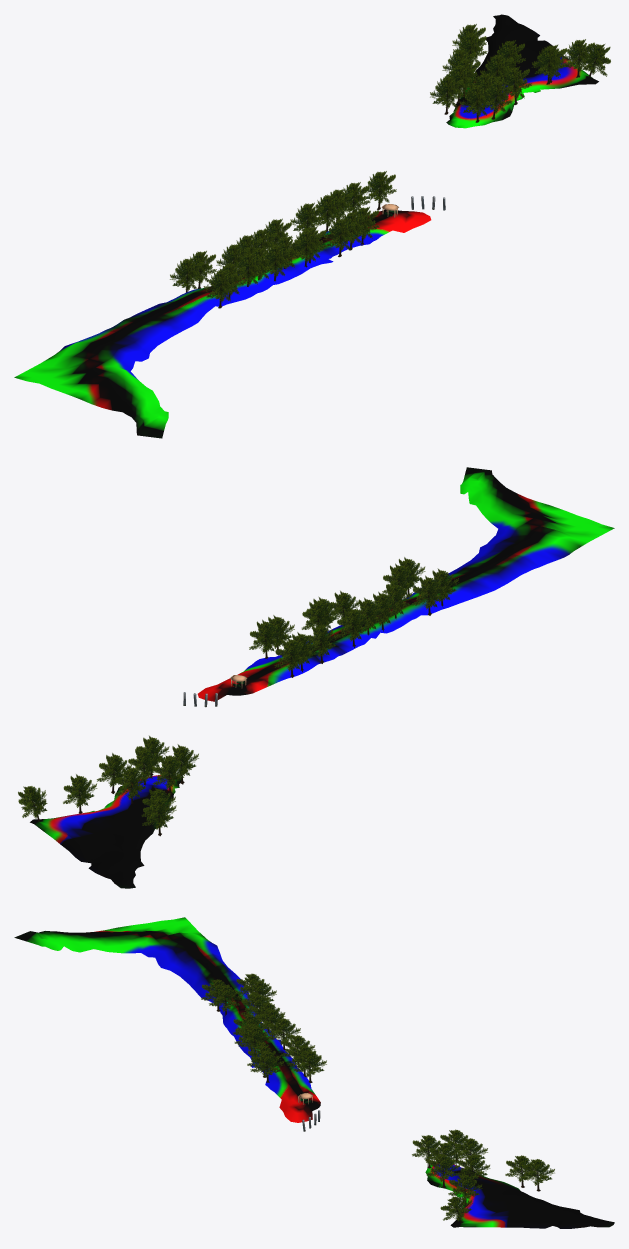
Rendered from peninsula world.glb.
3 renders of one model, top to bottom at view 1: azimuth 30°, elevation 25°; view 2: azimuth 210°, elevation 25°; view 3: azimuth 270°, elevation 25°, orthographic. The views are drawn at different scales.
Parts seen in each view (by area): view 1: Peninsula, Tree01.023, Tree01.020, Tree01.007, Tree01.021, Tree01, Tree01.028, Tree01.025, Tree01.030, Tree01.014, Tree01.022, Tree01.004 (+5 smaller); view 2: Peninsula, Tree01.037, Tree01.018, Tree01.028, Tree01.009, Tree01.027, Tree01.032, Tree01.002, Tree01.029, Tree01.005, Tree01.024, Tree01.004 (+3 smaller); view 3: Peninsula, Tree01.024, Tree01.037, Tree01.005, Tree01.002, Tree01.019, Tree01.028, Tree01.010, Tree01.032, Tree01.009, Tree01.029, Tree01.022 (+2 smaller).
Part boxes in pixels (<box>): Peninsula: <box>14,14,598,438</box>; Tree01.023: <box>430,75,464,114</box>; Tree01.020: <box>203,269,237,308</box>; Tree01.007: <box>323,218,357,257</box>; Tree01.021: <box>170,258,203,292</box>; Tree01: <box>362,171,396,209</box>; Tree01.028: <box>531,46,565,84</box>; Tree01.025: <box>480,80,513,119</box>; Tree01.030: <box>561,39,594,77</box>; Tree01.014: <box>258,244,291,281</box>; Tree01.022: <box>459,84,494,122</box>; Tree01.004: <box>290,202,324,231</box>; Peninsula: <box>30,467,614,888</box>; Tree01.037: <box>142,795,176,836</box>; Tree01.018: <box>412,575,445,615</box>; Tree01.028: <box>63,774,97,813</box>; Tree01.009: <box>336,607,370,647</box>; Tree01.027: <box>152,755,186,795</box>; Tree01.032: <box>115,766,148,803</box>; Tree01.002: <box>274,637,308,677</box>; Tree01.029: <box>18,786,47,821</box>; Tree01.005: <box>249,619,279,659</box>; Tree01.024: <box>96,753,131,793</box>; Tree01.004: <box>306,623,338,663</box>; Peninsula: <box>14,917,614,1228</box>; Tree01.024: <box>426,1154,460,1187</box>; Tree01.037: <box>521,1159,554,1191</box>; Tree01.005: <box>250,1051,284,1082</box>; Tree01.002: <box>293,1050,326,1082</box>; Tree01.019: <box>209,985,242,1016</box>; Tree01.028: <box>448,1174,482,1206</box>; Tree01.010: <box>238,1026,271,1052</box>; Tree01.032: <box>456,1154,490,1181</box>; Tree01.009: <box>267,1018,300,1050</box>; Tree01.029: <box>440,1196,472,1223</box>; Tree01.022: <box>412,1135,441,1168</box>.
Bounding box in the file's own units: 320 × 19.68 × 255.
Materials: 5 (3 with a texture image).
